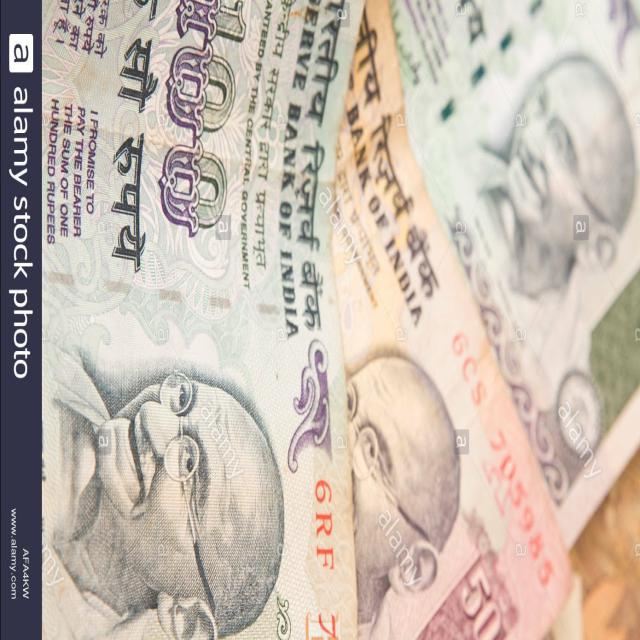100IndianRupees: (44, 0, 365, 640)
